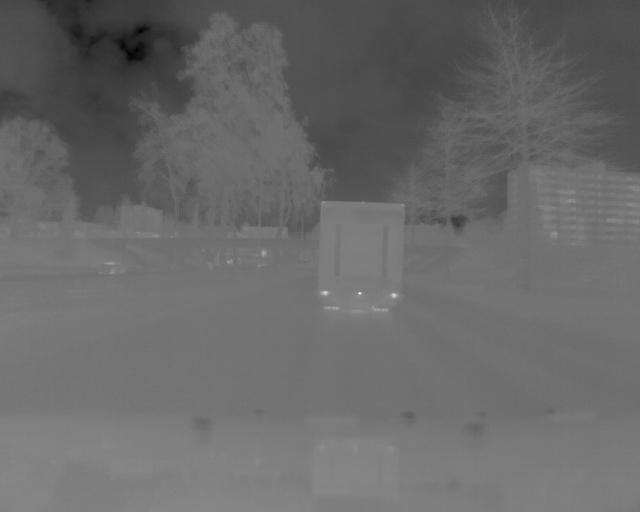car: (97, 258, 127, 275)
